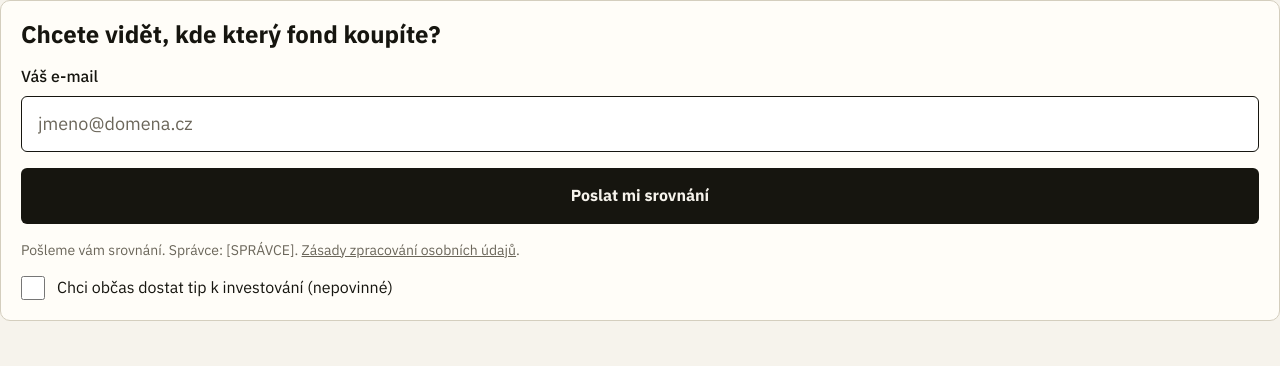
Test: LeadForm: sending › shows the error the action returns
The image size is (1280, 366).
In the field labelled "Váš e-mail": x=640, y=124 [21,96,1259,152], type "jmeno@domena"
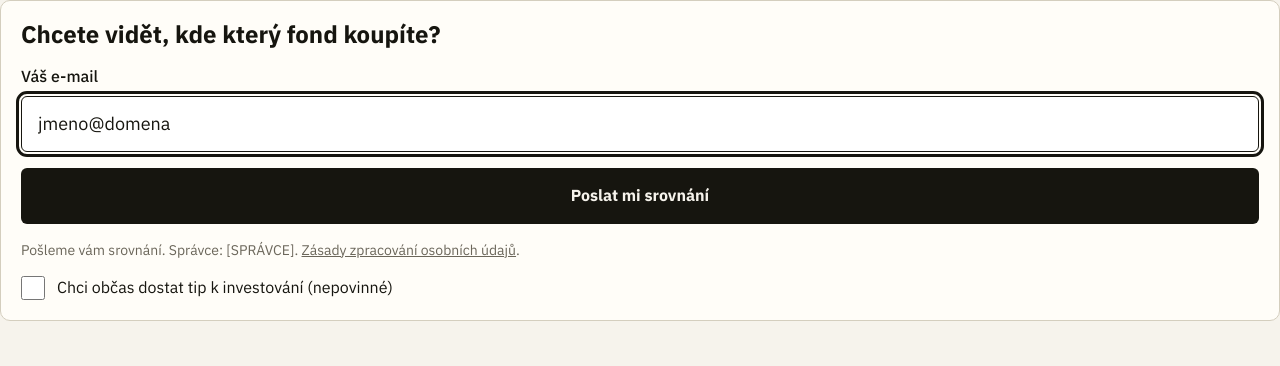
Click the button "Poslat mi srovnání": x=640, y=196 [21,168,1259,224]
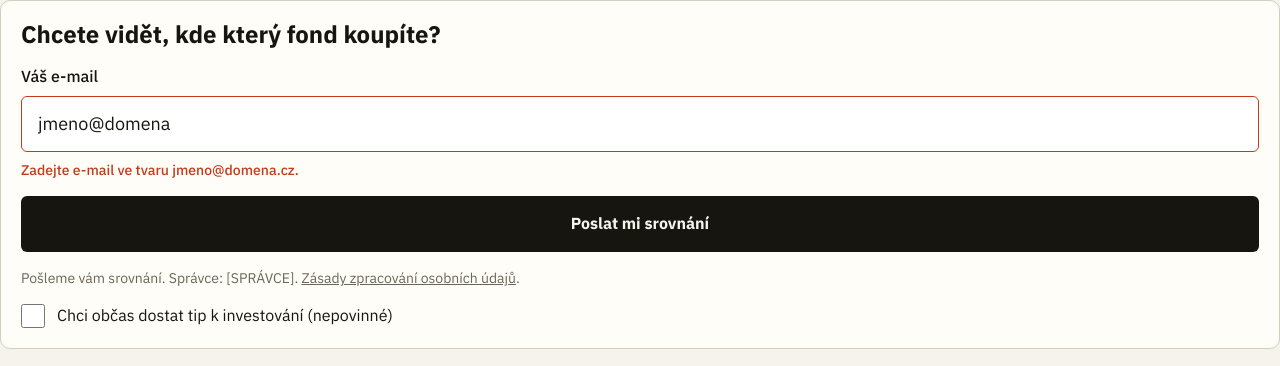
Check: the text "Zadejte e-mail ve tvaru jmeno@domena.cz." is shown, box [21,161,299,179]
